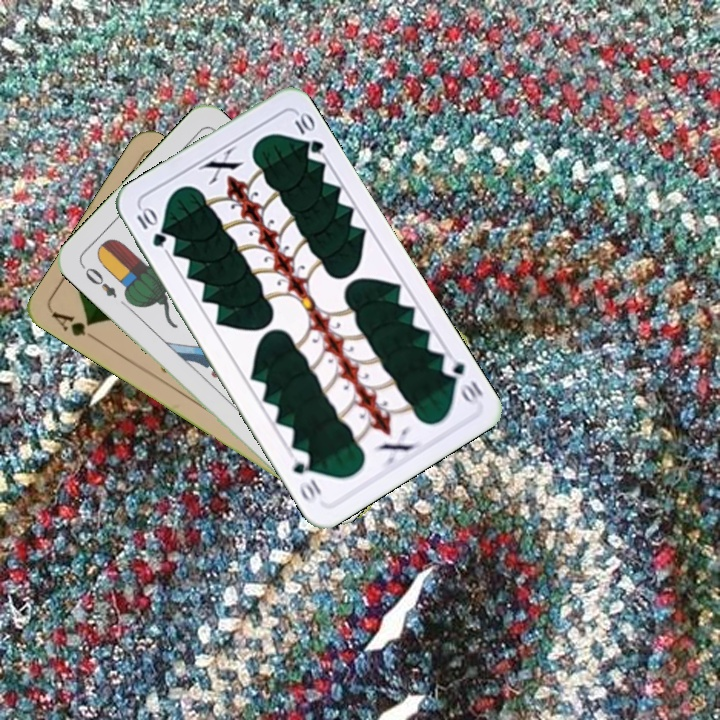EO: (77, 261, 120, 301)
G10: (437, 351, 486, 409), (132, 203, 169, 250)
GA: (48, 308, 103, 345)
